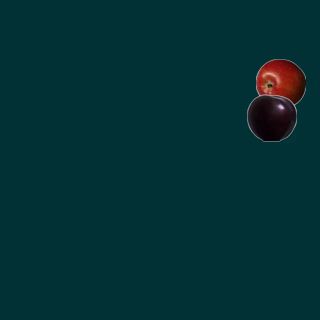Apple Braeburn: (255, 58, 305, 108)
Cherry Wax Black: (246, 92, 296, 142)
